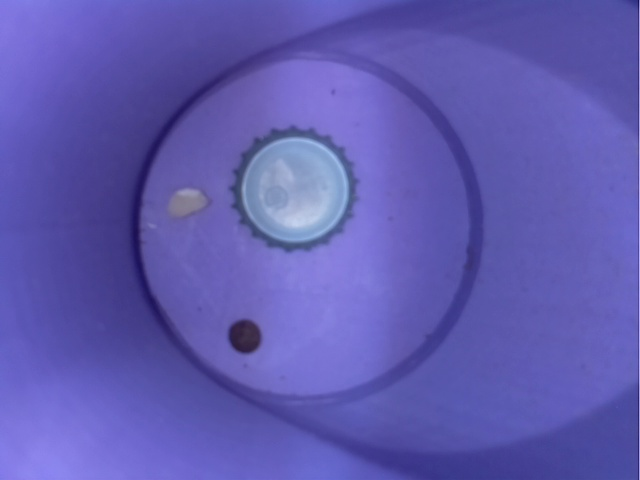capsule: (220, 117, 371, 253)
croquette: (155, 181, 218, 227), (220, 307, 263, 361)
